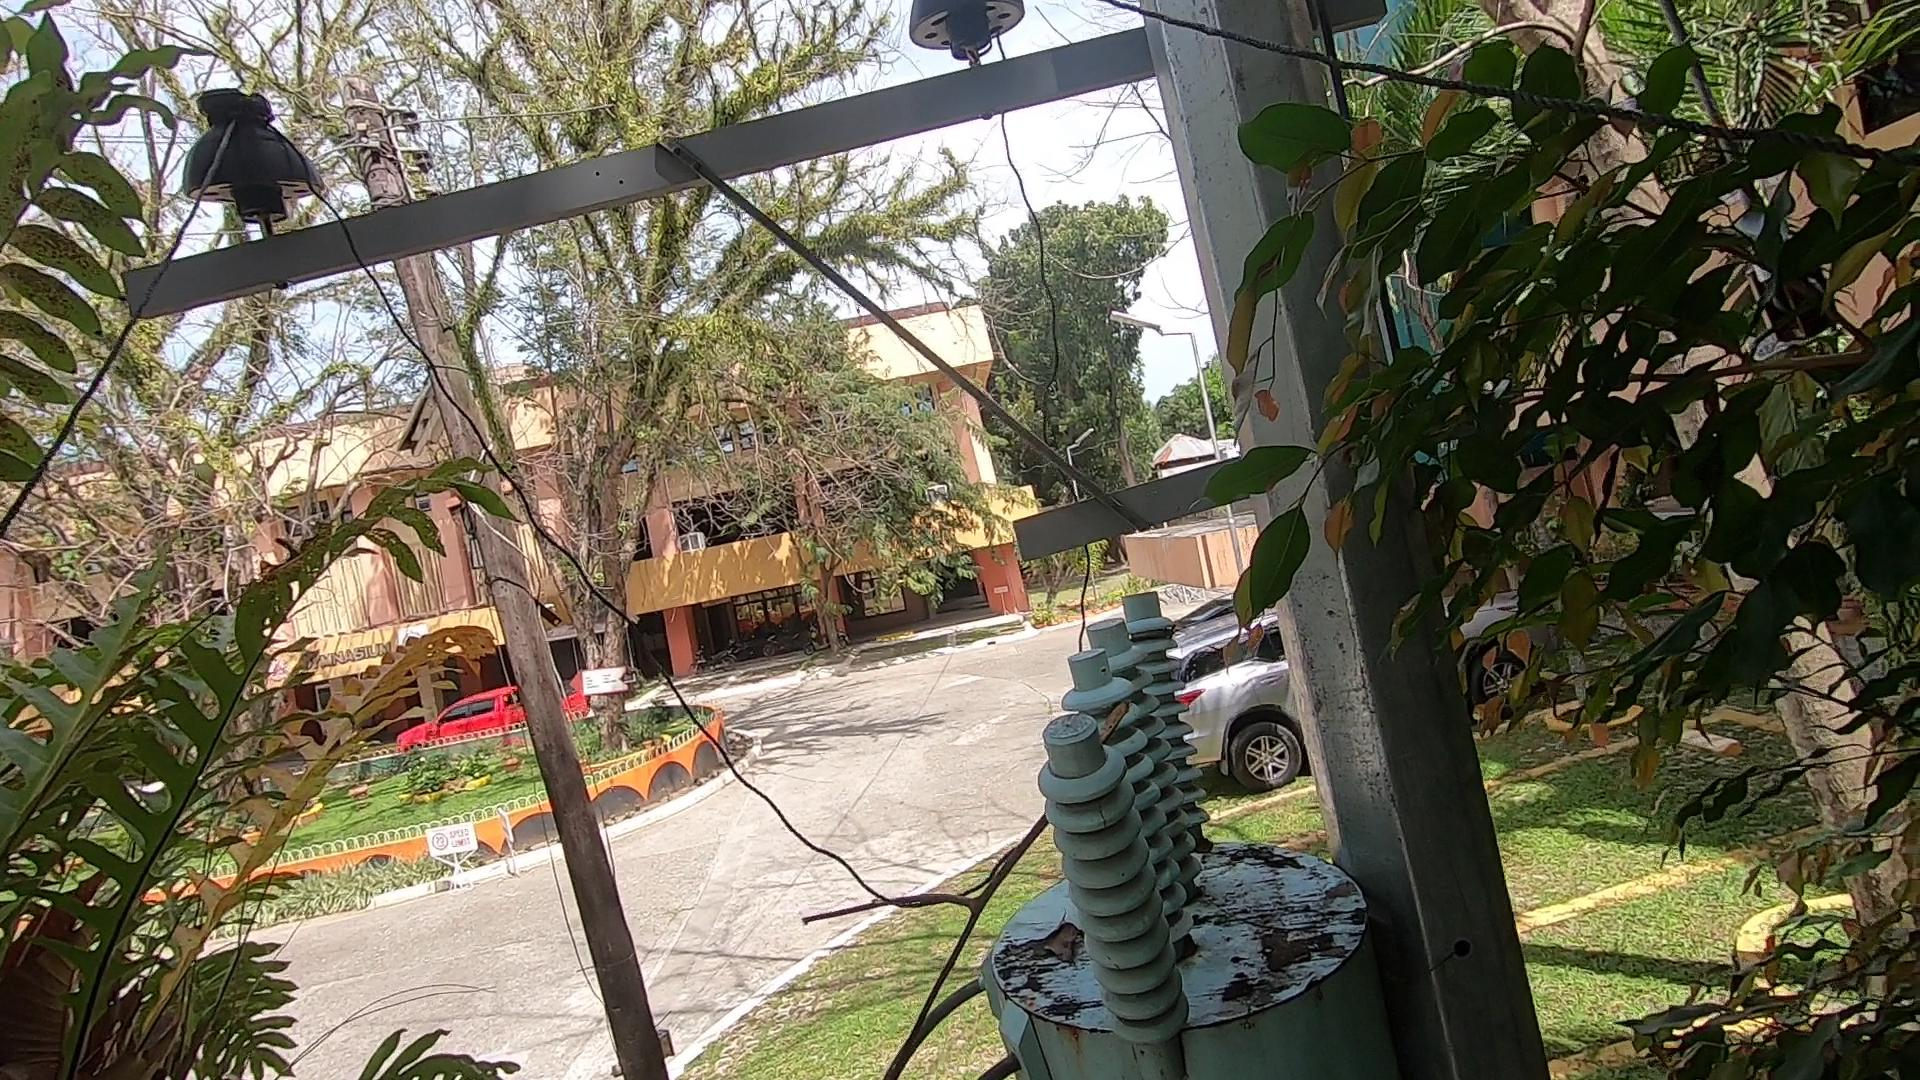leaf: (1029, 899, 1095, 973)
tree branch: (775, 698, 1143, 1080)
